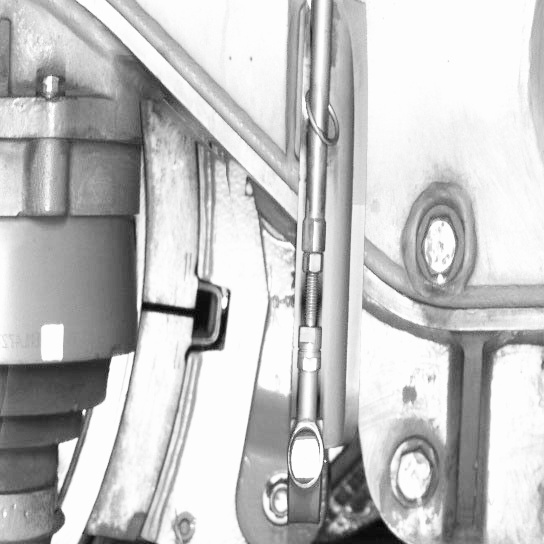ClosedKnifeSwitch: (75, 138, 197, 542)
